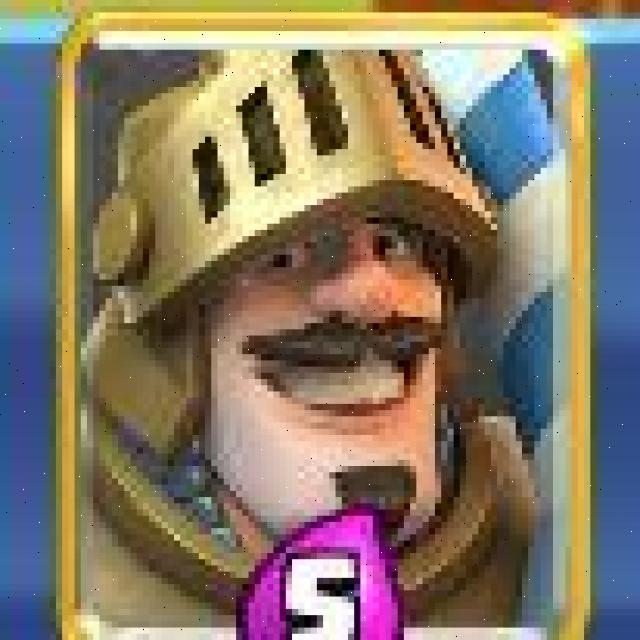Prince: (51, 11, 595, 640)
